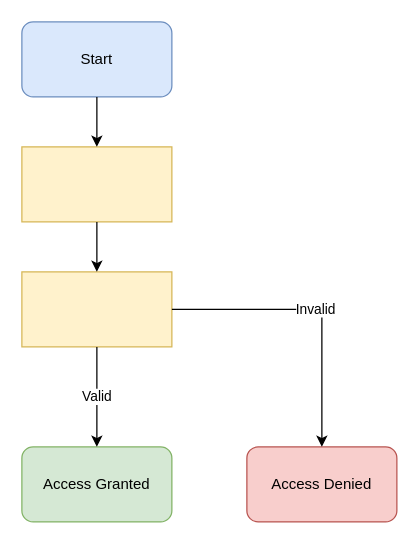
Some shapes in this 419 by 544 pixel diagram are drawn without their labels. The shapes that lost their labels are listed below. From the top down, each one's centre as x and y in pixels, then its label:
At [96,184]: "Enter Credentials".
At [96,309]: "Validate".
